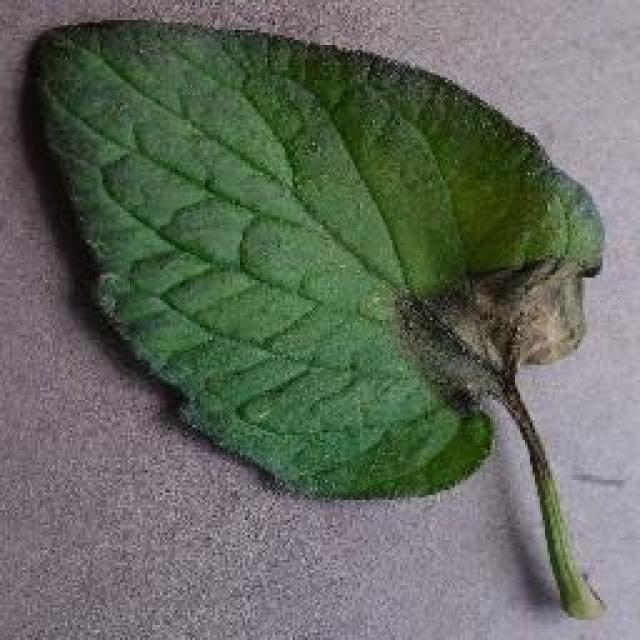Tomato late blight leaf: (23, 13, 615, 504)
